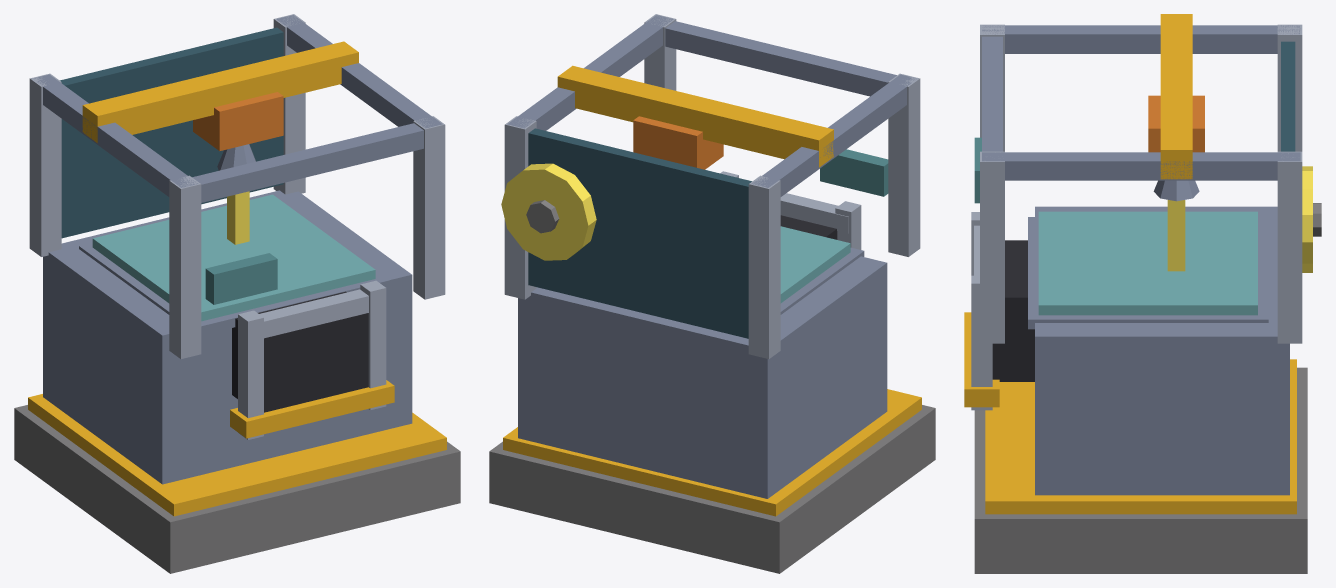
File: printer3d.glb
3 renders of one model, left to right at view 1: azimuth 30°, elevation 25°; view 2: azimuth 150°, elevation 25°; view 3: azimuth 270°, elevation 25°, orthographic. The views are drawn at different scales.
Visible parts, largest first — view 1: printer3d; view 2: printer3d; view 3: printer3d.
Part boxes in pixels (bbox=[...]): printer3d: bbox=[14, 14, 460, 573]; printer3d: bbox=[489, 14, 935, 573]; printer3d: bbox=[964, 14, 1321, 573].
Size of the model in its own units: 1 by 1.28 by 1.
